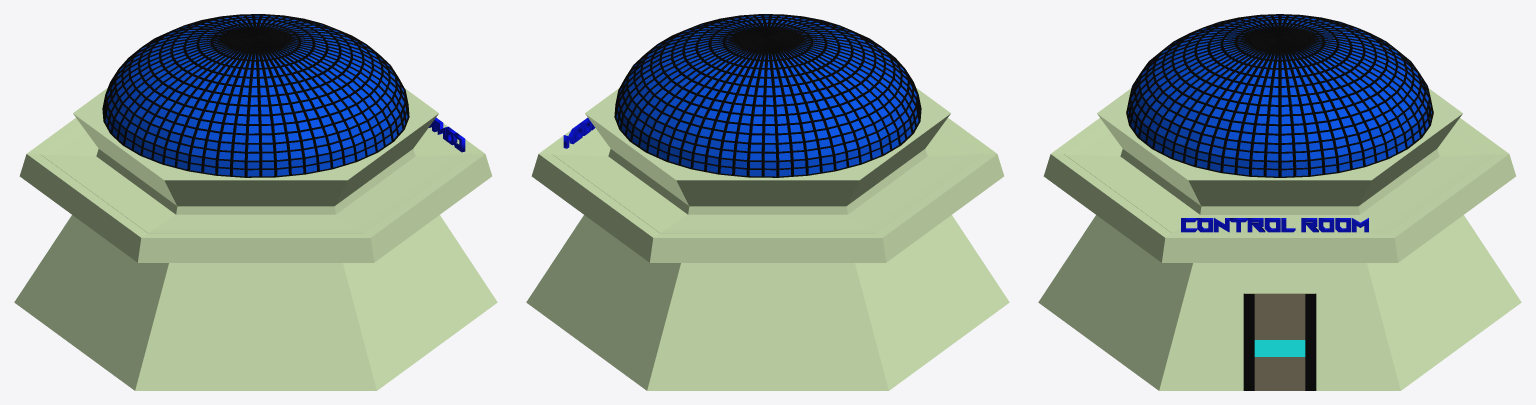
Rendered from Control Room.glb.
The picture shows the model from 3 angles, left to right: view 1: azimuth 30°, elevation 25°; view 2: azimuth 150°, elevation 25°; view 3: azimuth 270°, elevation 25°; orthographic projection.
Visible parts, largest first — view 1: Wall-col, Tomb, Text; view 2: Wall-col, Tomb, Text; view 3: Wall-col, Tomb, Door-col, Text, gate_authentication_cheker.
Part boxes in pixels (<box>): Wall-col: <box>14,88,497,390</box>; Tomb: <box>102,14,409,177</box>; Text: <box>428,117,465,152</box>; Wall-col: <box>526,88,1009,390</box>; Tomb: <box>614,14,921,177</box>; Text: <box>563,117,595,148</box>; Wall-col: <box>1038,88,1521,390</box>; Tomb: <box>1126,14,1433,177</box>; Door-col: <box>1243,293,1316,390</box>; Text: <box>1181,218,1368,232</box>; gate_authentication_cheker: <box>1254,340,1305,356</box>.
Bounding box in the file's own units: 204 × 142 × 236.
